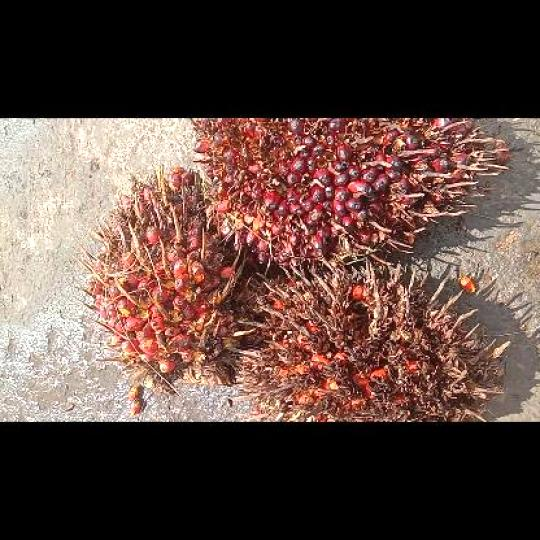masak: (191, 117, 507, 267), (71, 165, 269, 391)
terlalu masak: (226, 252, 509, 420)
